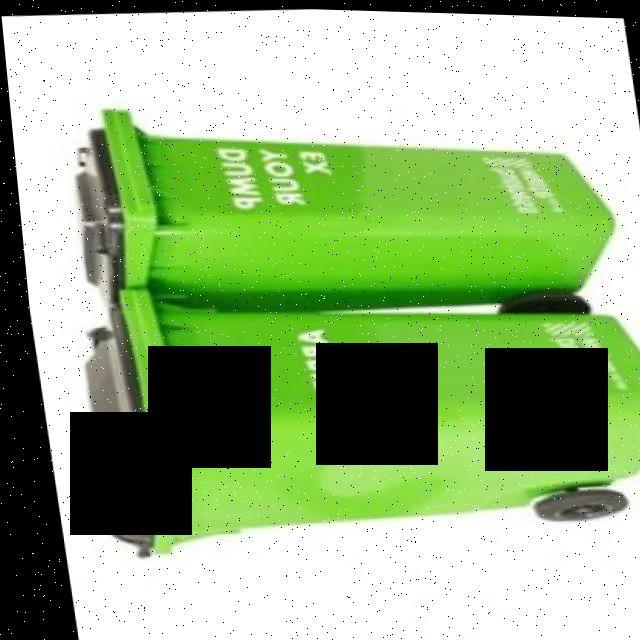bin: (52, 257, 640, 587), (30, 69, 639, 339)
